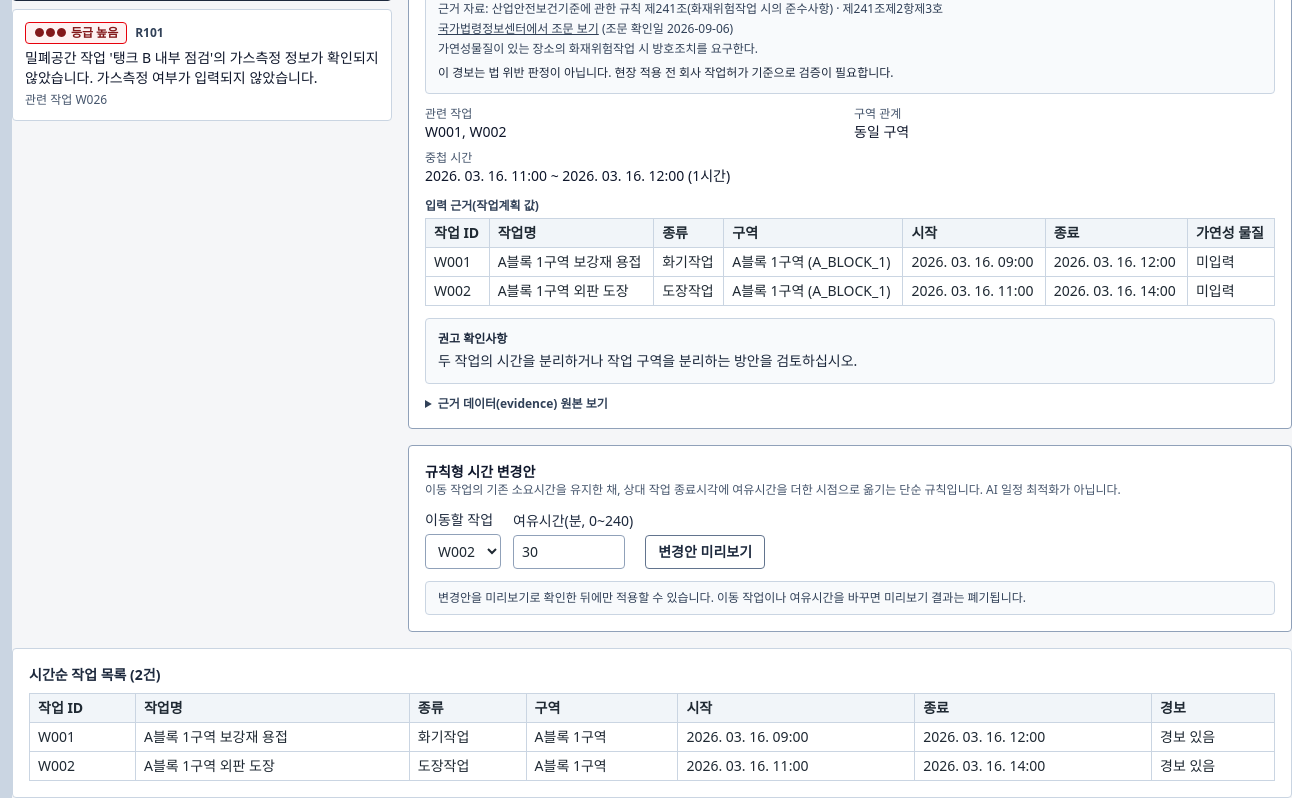
it: 분석 결과 화면 › 시간 변경안을 미리 보고 적용하면 전체 재분석 결과를 반영한다
(page scrolled)
Step 1. Select "W002" in the dropdown labelled "이동할 작업" → (463, 552), box [425,534,501,569]
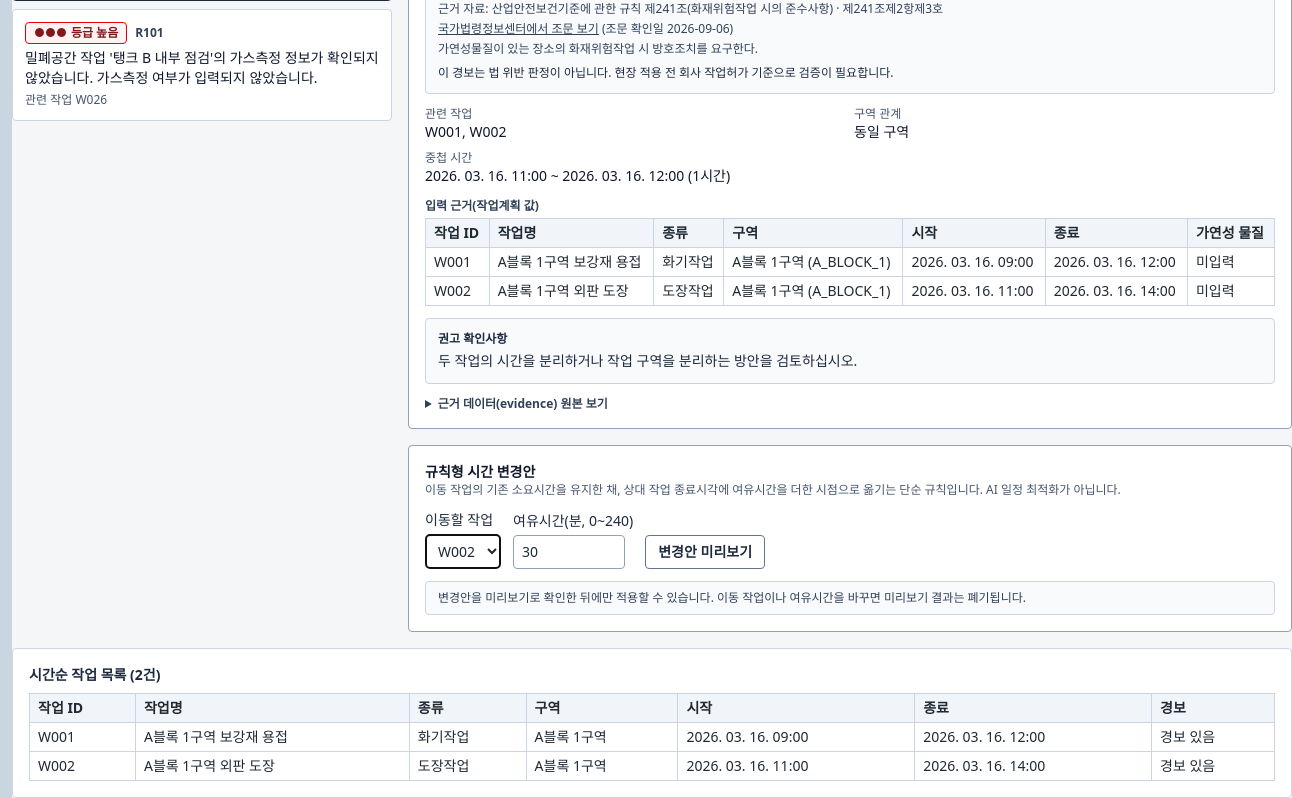
Step 2. Click the button "변경안 미리보기" → (705, 552), box [645,535,765,569]
(page scrolled)
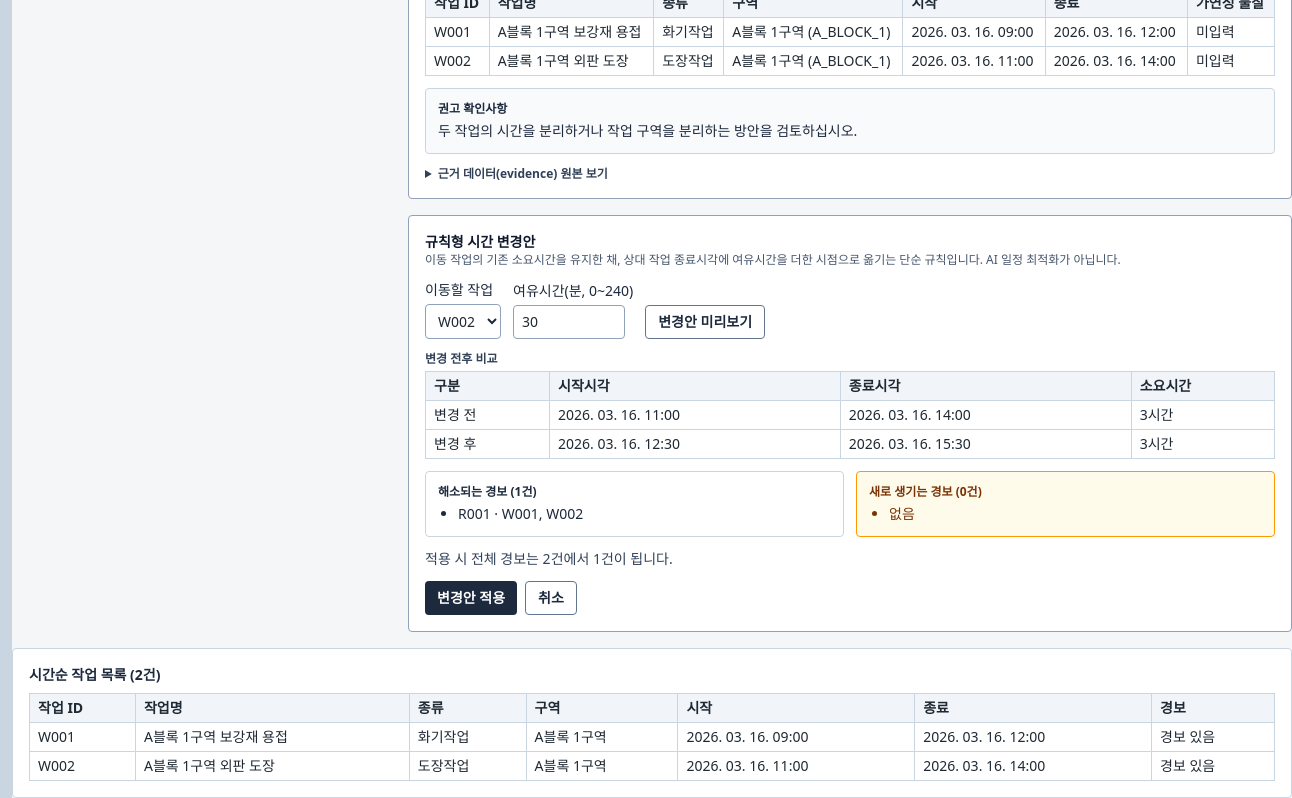
Expected: the text "변경 전후 비교" is shown, [425,351,498,367]
Expected: the text "해소되는 경보 (1건)" is shown, [438,483,536,500]
Expected: the text "새로 생기는 경보 (0건)" is shown, [869,483,982,500]
Step 3. Click the button "변경안 적용" → (471, 598), box [425,581,517,615]
(page scrolled)
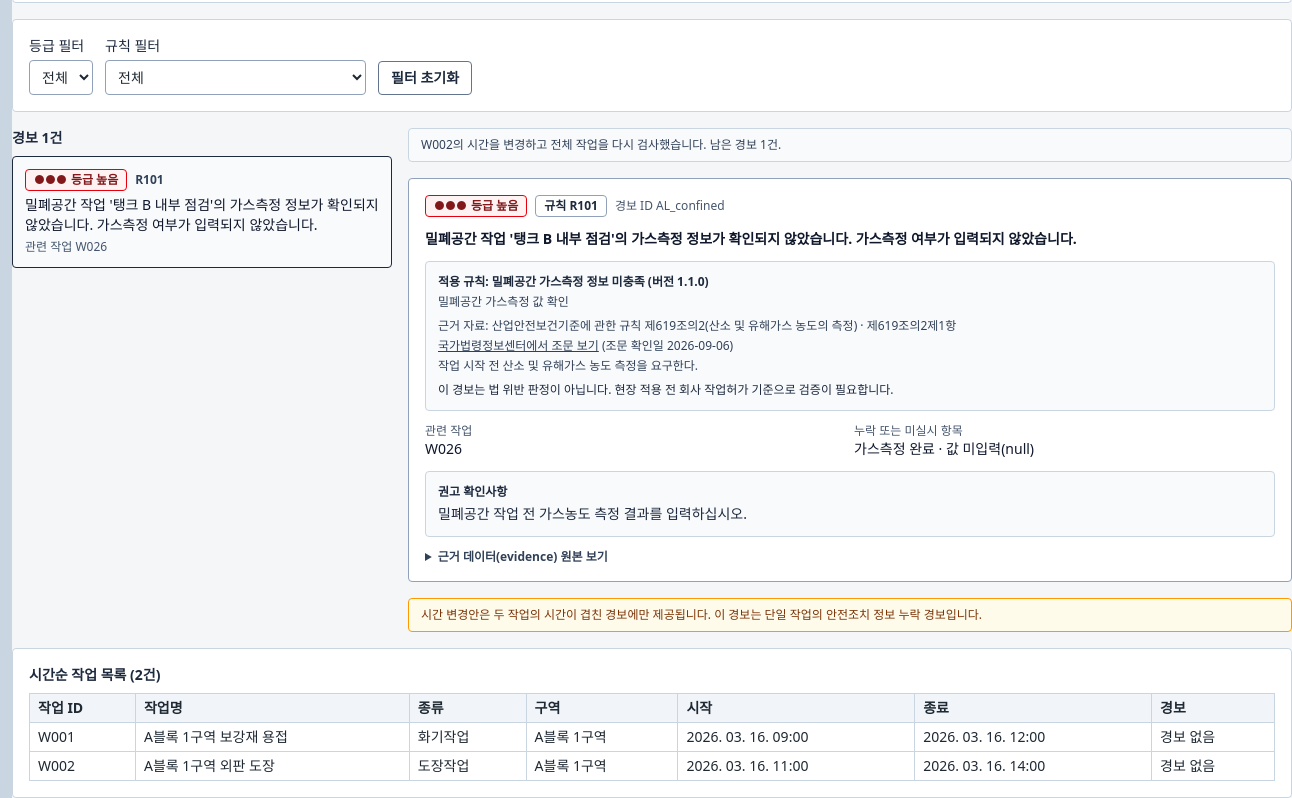
Expected: the text "W002의 시간을 변경하고 전체 작업을 다시 검사했습니다. 남은 경보 1건." is shown, [408,128,1291,162]
